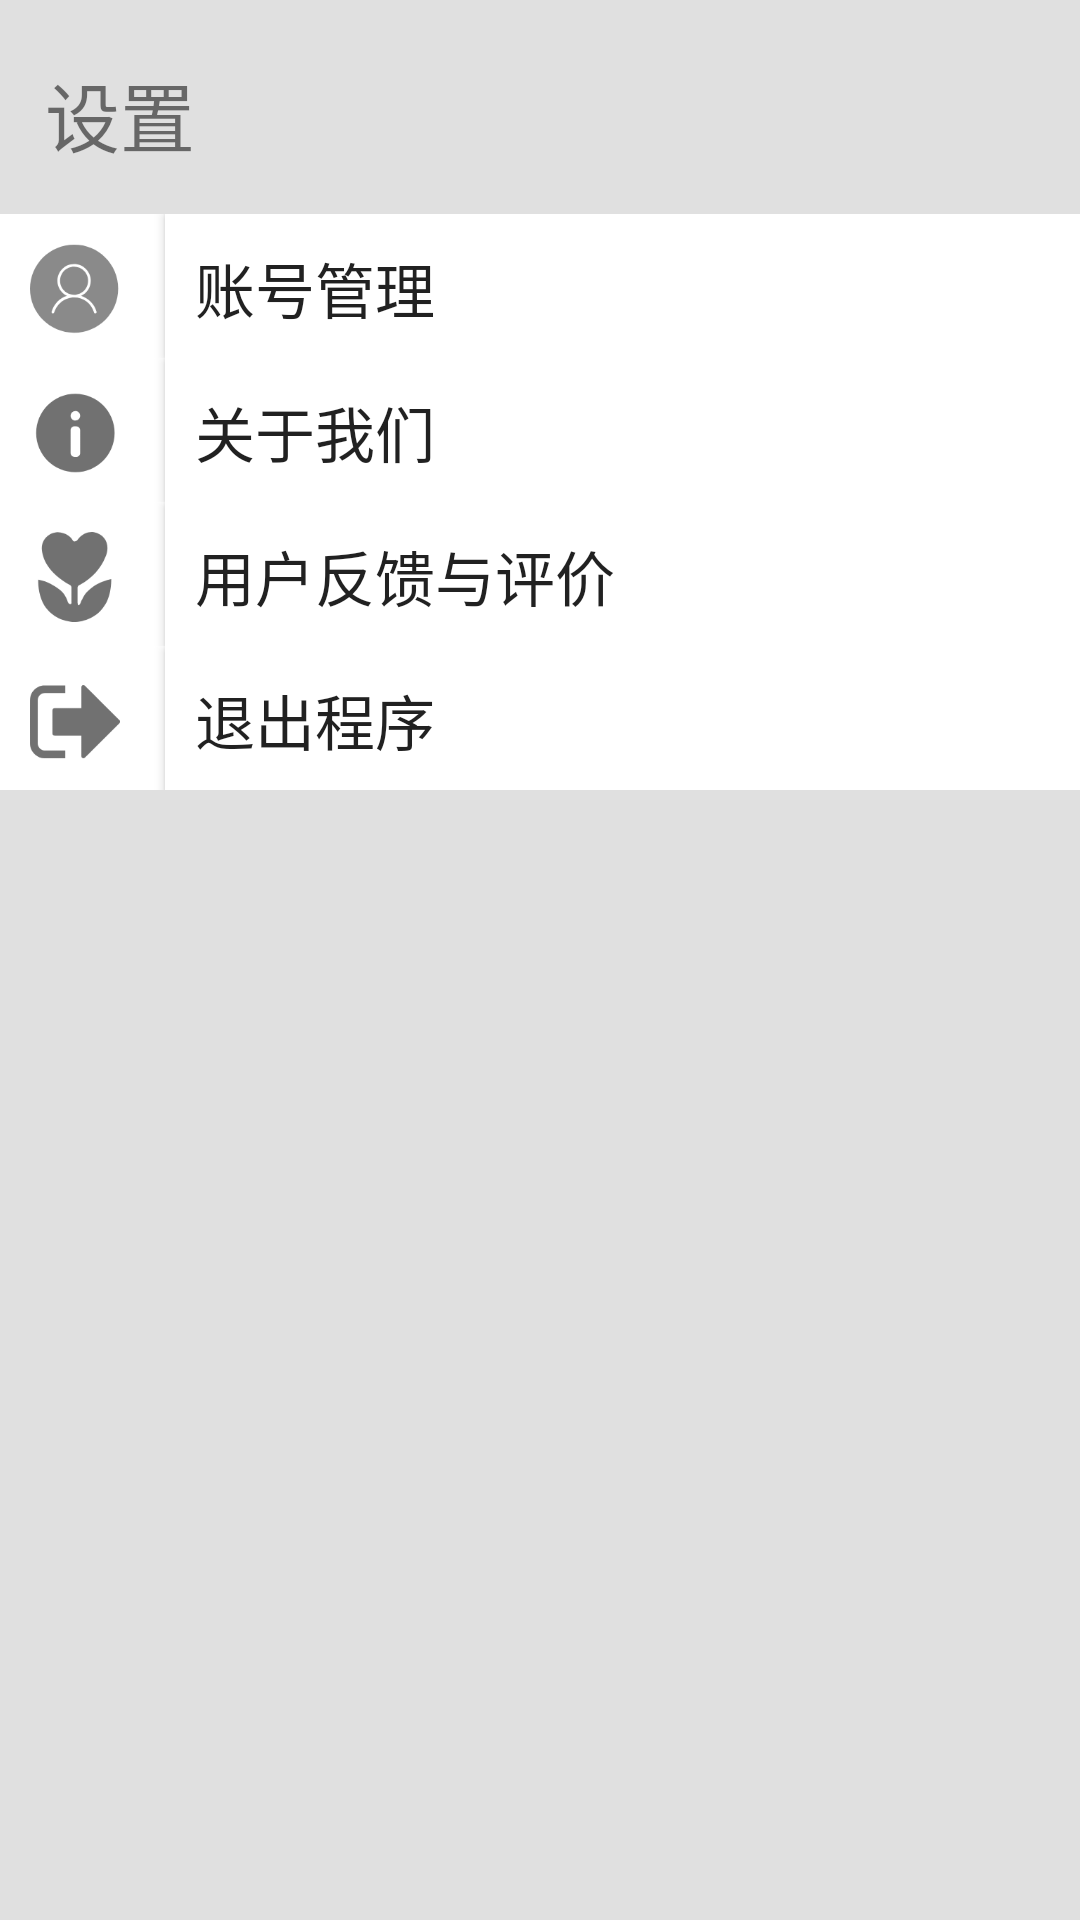

Locate icon controls on the screen. Image size 1080px×1920px, boxes as [left=x1, top=y1, right=x2, bottom=y2].
about: [left=36, top=393, right=115, bottom=473]
manage: [left=30, top=245, right=119, bottom=333]
